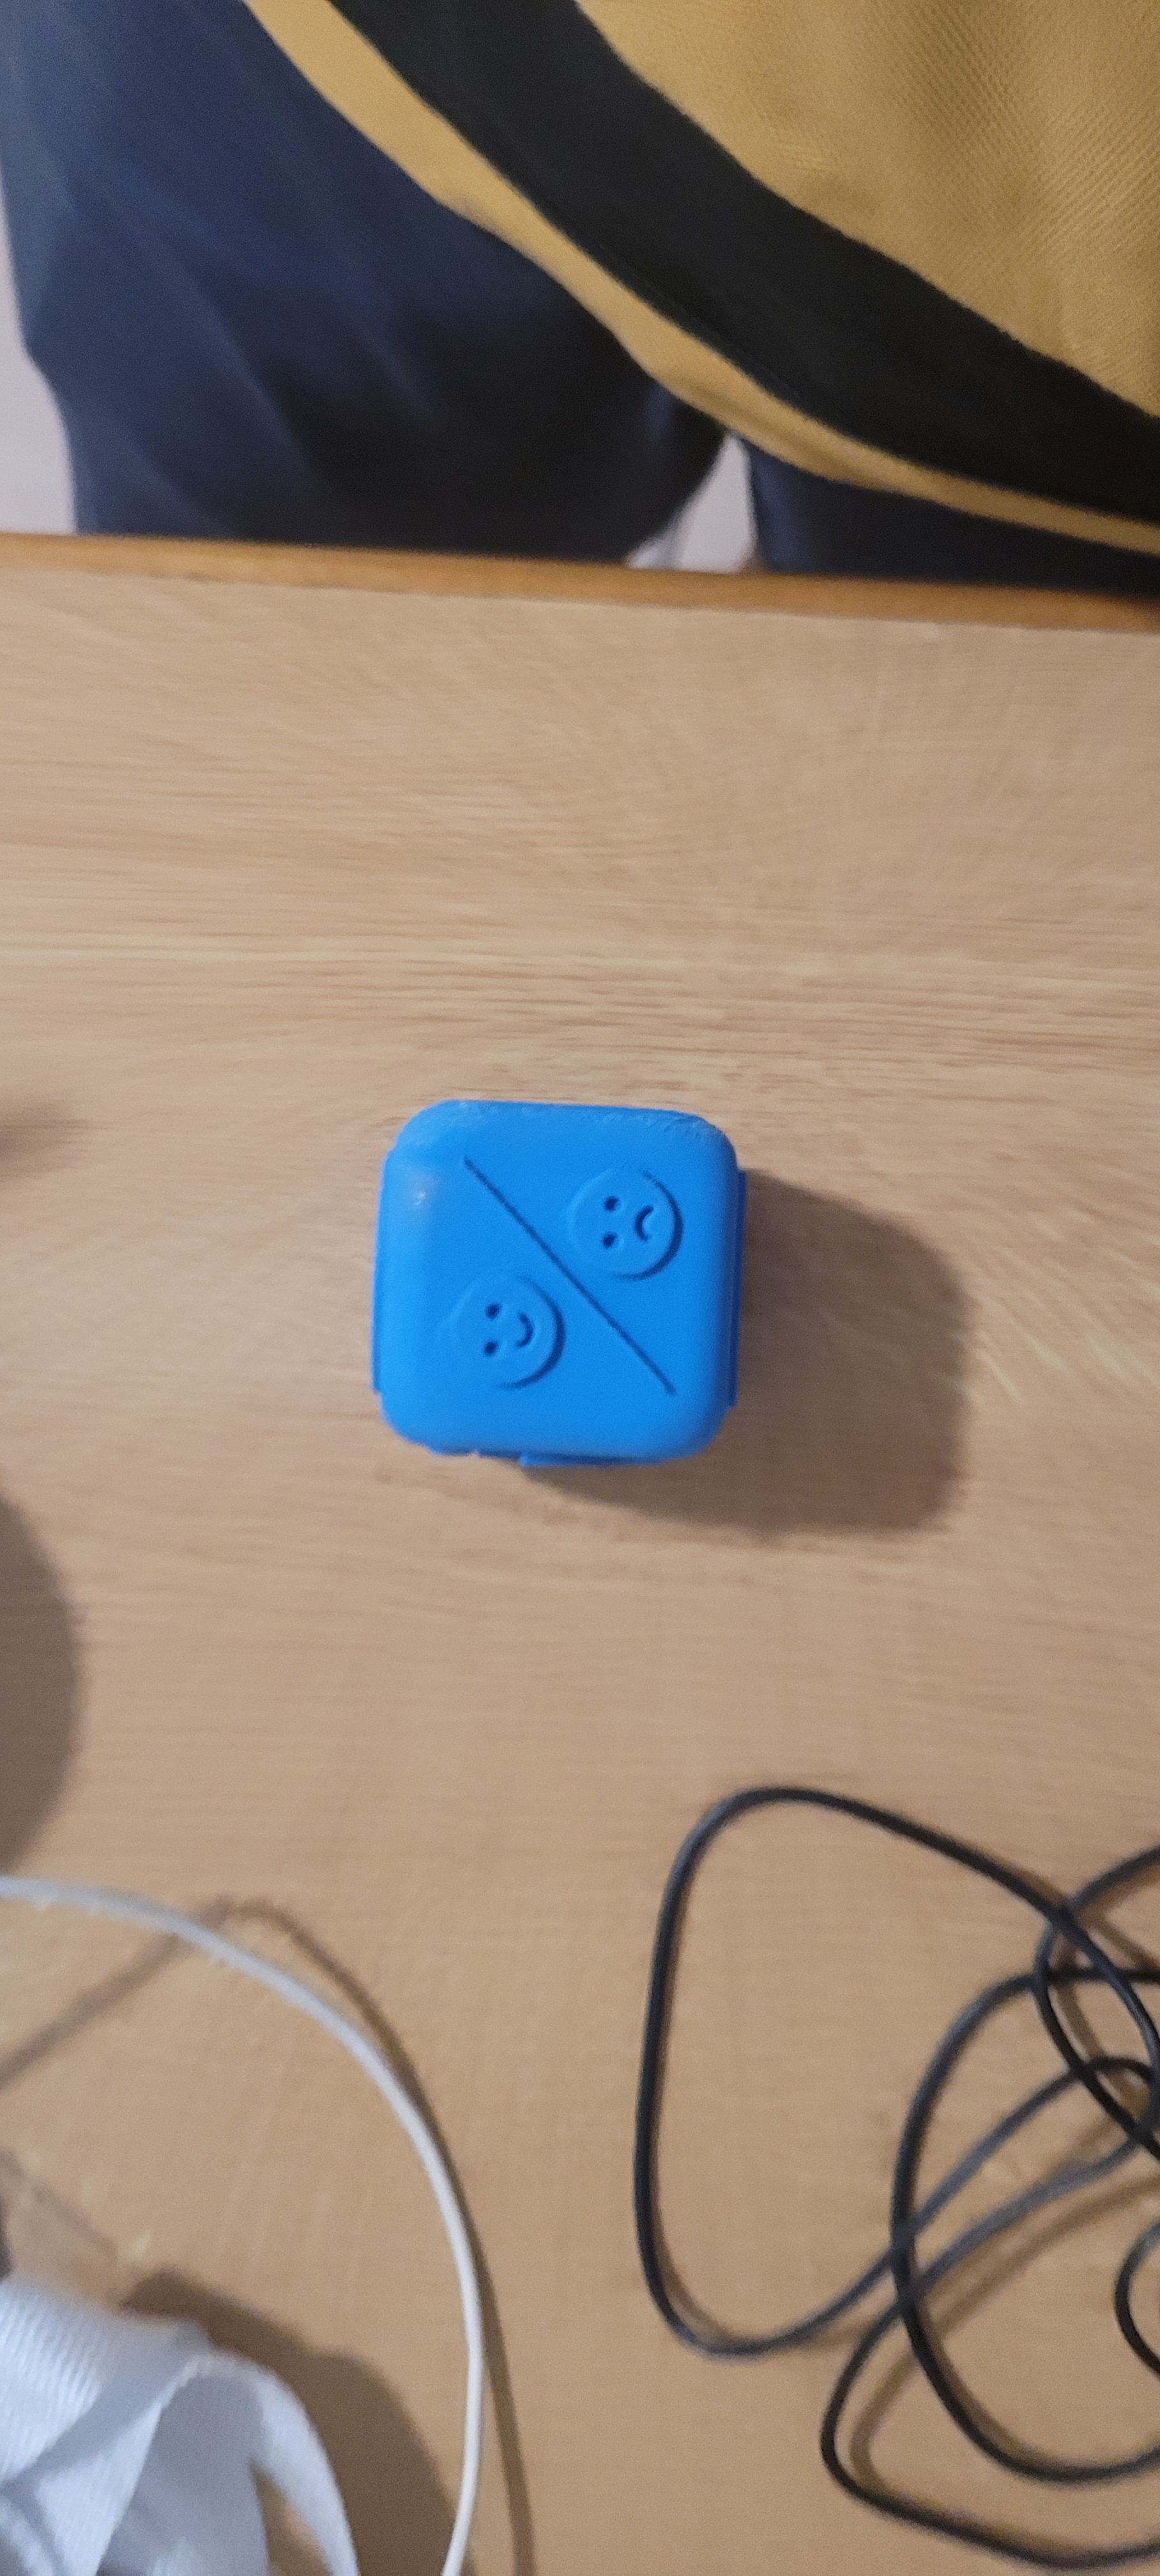Like/Dislike: (370, 1086, 738, 1464)
